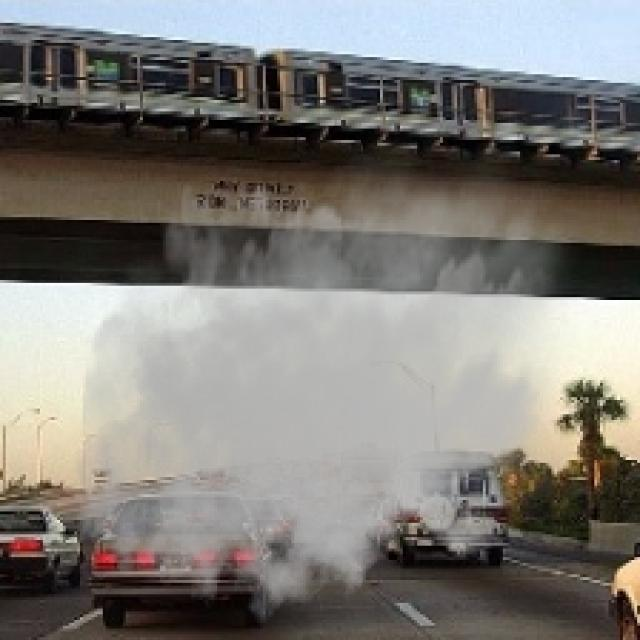Smoke: (71, 122, 592, 638)
